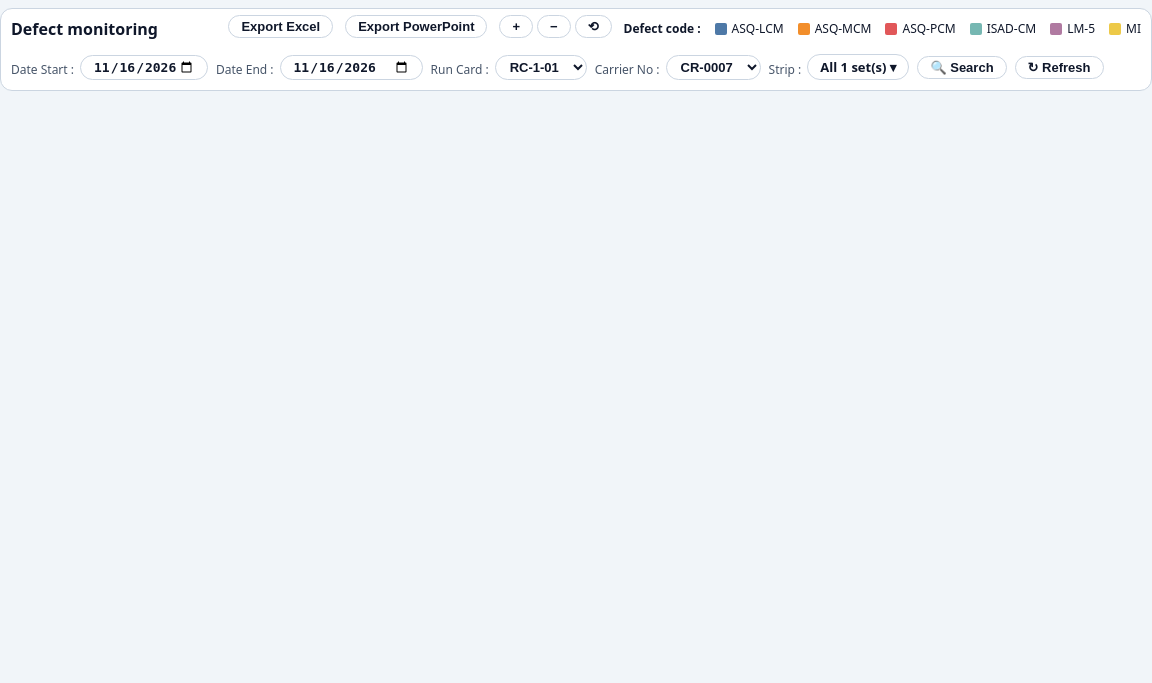
Productivity dashboard › walks date -> run card -> carrier and summarises the carrier
Click the button "🔍 Search": [962, 67] box 917,56 -> 1007,78
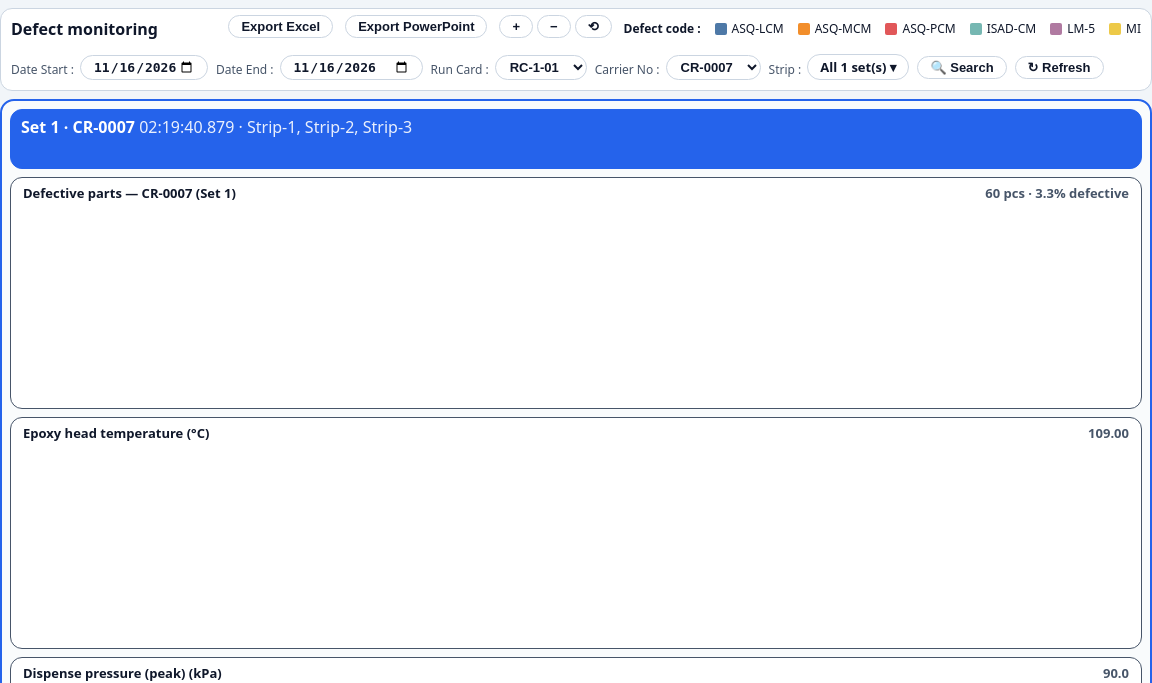
Expected: the text "Date Start" is shown, 11,60 -> 74,78
Expected: the text "CR-0007" is shown, 72,116 -> 135,138
Expected: the number of drawings is 6
